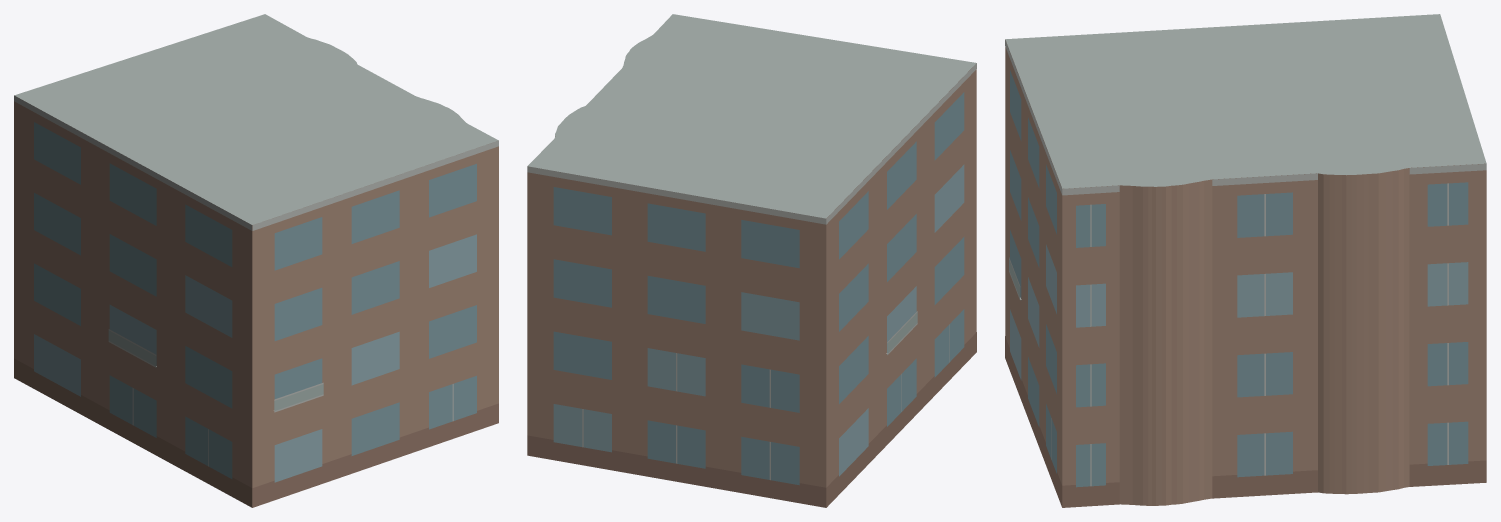
File: survey-upis-32960428.glb
3 renders of one model, left to right at view 1: azimuth 30°, elevation 25°; view 2: azimuth 150°, elevation 25°; view 3: azimuth 270°, elevation 25°, orthographic. The views are drawn at different scales.
Visible parts, largest first — view 1: survey-upis-32960428.tmp; view 2: survey-upis-32960428.tmp; view 3: survey-upis-32960428.tmp.
Boxes of the visible parts, x1,y1,x2,y2 form: survey-upis-32960428.tmp: (14,14,498,507); survey-upis-32960428.tmp: (527,14,976,507); survey-upis-32960428.tmp: (1005,14,1486,507).
Size of the model in its own units: 13.76 by 11.7 by 16.01.
